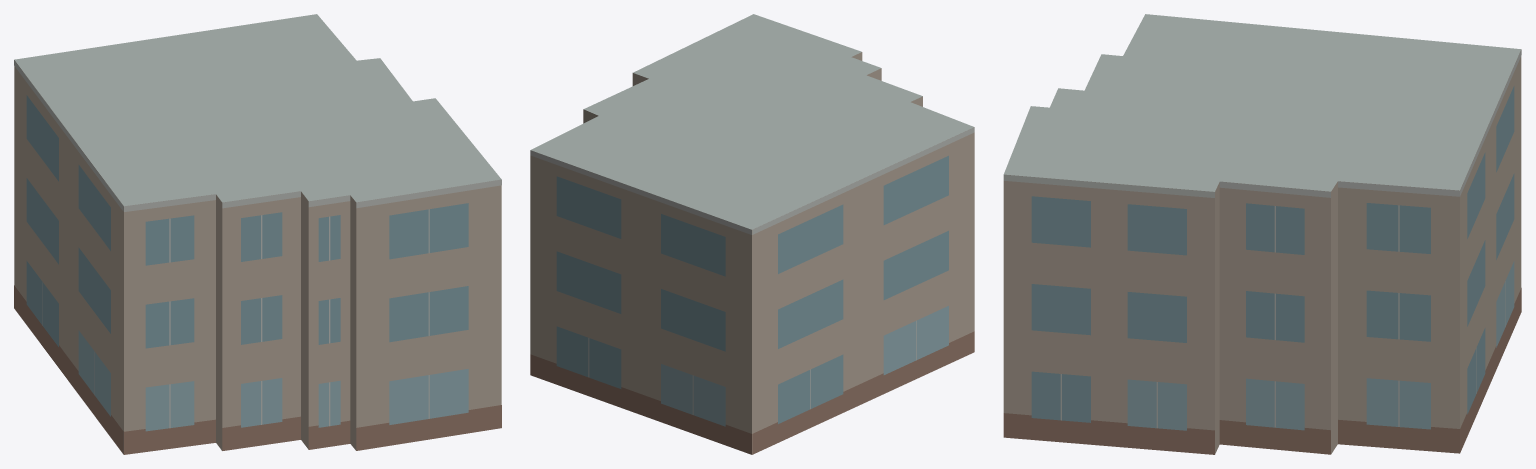
Rendered from survey-upis-32508313.glb.
The picture shows the model from 3 angles, left to right: view 1: azimuth 30°, elevation 25°; view 2: azimuth 150°, elevation 25°; view 3: azimuth 270°, elevation 25°; orthographic projection. The views are drawn at different scales.
Visible parts, largest first — view 1: survey-upis-32508313.tmp; view 2: survey-upis-32508313.tmp; view 3: survey-upis-32508313.tmp.
Part boxes in pixels (x1=…): survey-upis-32508313.tmp: x1=14, y1=14, x2=501, y2=454; survey-upis-32508313.tmp: x1=530, y1=14, x2=974, y2=454; survey-upis-32508313.tmp: x1=1003, y1=14, x2=1521, y2=454.
Bounding box in the file's own units: 14.95 × 10.3 × 18.39.
